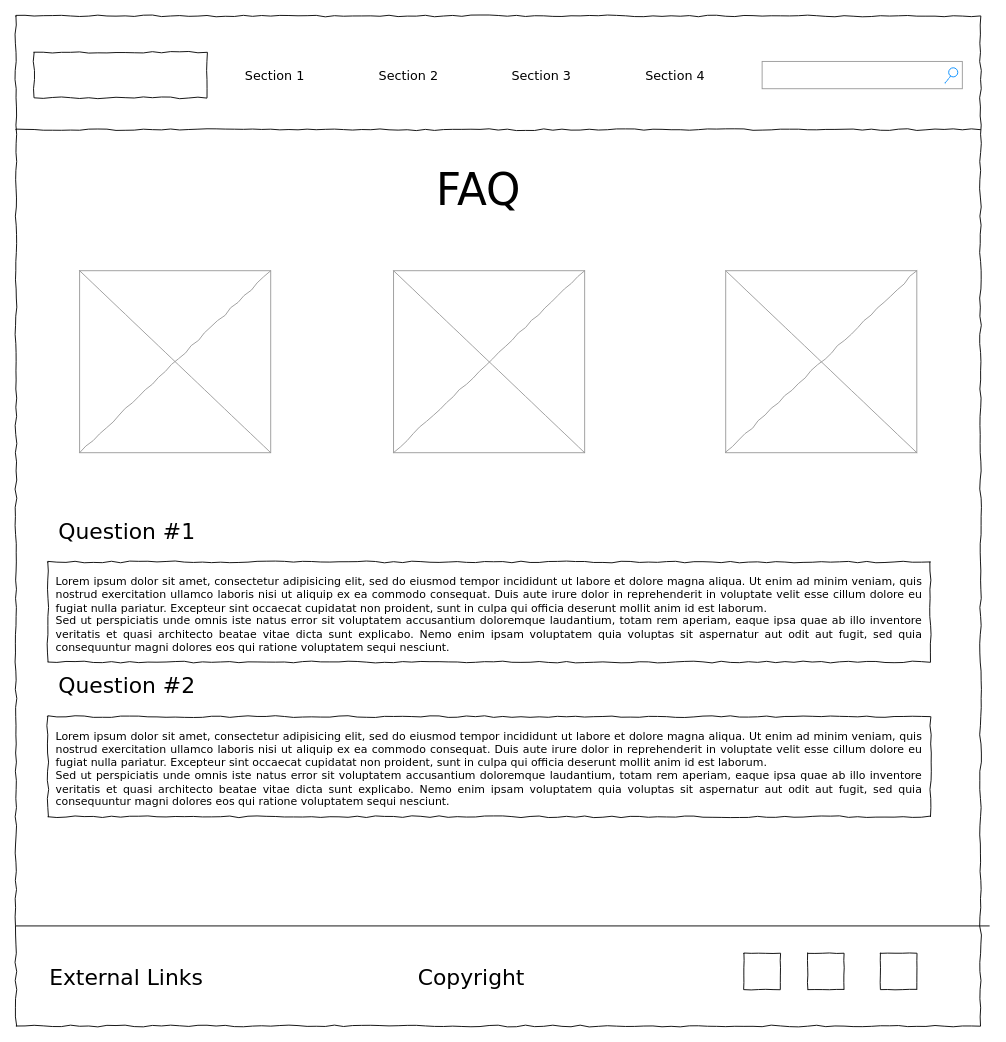
This 1006x1042 diagram has some shape labels left out. The centre of each missing label's shape, as x and y in pixels:
"LOGO" belongs at point 120,74.
"Search" belongs at point 861,75.
